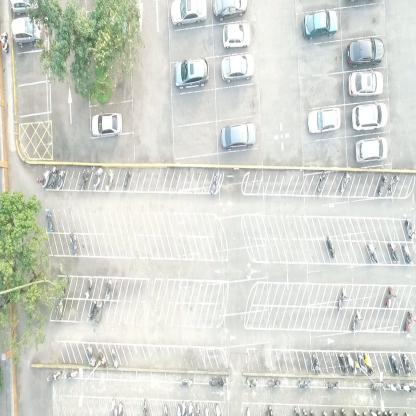car: (345, 36, 385, 68), (302, 8, 338, 42), (174, 56, 209, 90), (220, 51, 255, 84), (220, 121, 256, 152), (351, 101, 388, 131), (348, 69, 384, 99), (307, 105, 342, 135), (170, 0, 207, 28), (10, 16, 44, 46), (355, 136, 388, 164), (91, 110, 123, 138), (222, 22, 251, 50), (212, 0, 248, 20), (10, 0, 42, 18)
